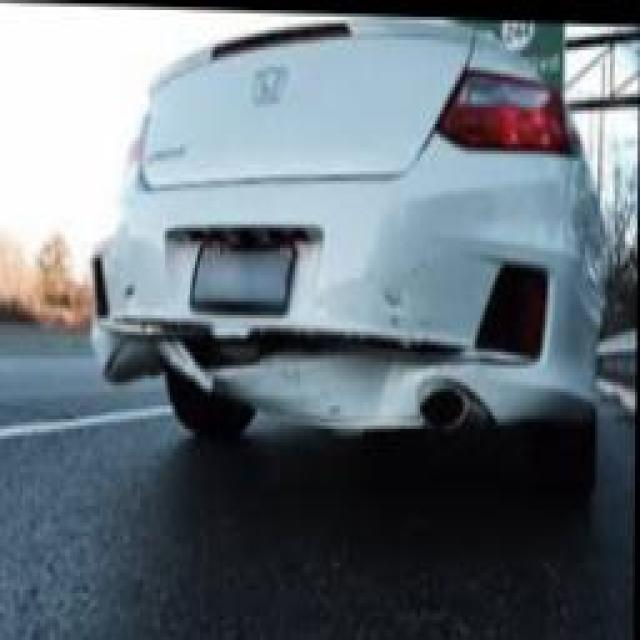Bumper: (81, 243, 576, 432), (97, 151, 579, 338)
